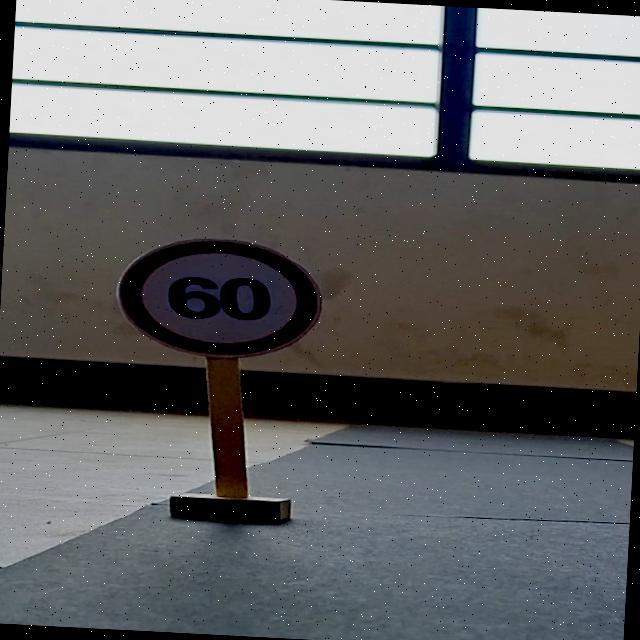Speed60: (109, 230, 328, 364)
